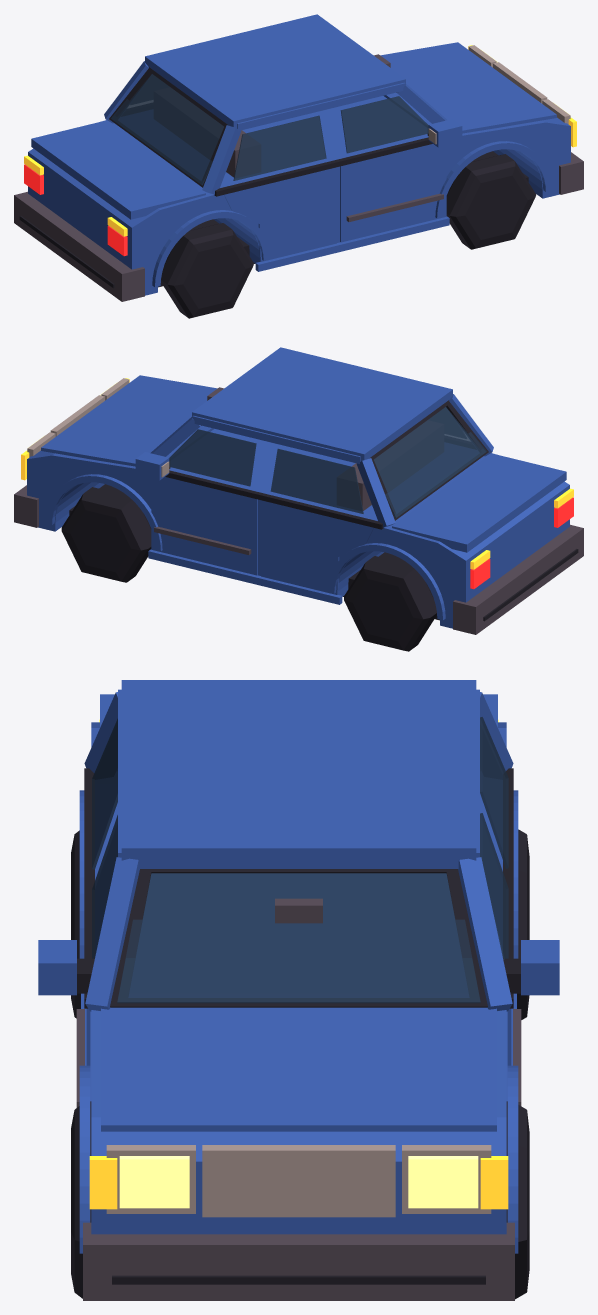
Rendered from veh.sedan-blue.lod2.glb.
3 views of the same model, one above another, from view 1: azimuth 30°, elevation 25°; view 2: azimuth 150°, elevation 25°; view 3: azimuth 270°, elevation 25° (orthographic). The views are drawn at different scales.
Visible parts, largest first — view 1: body, object 8, wheelRL, wheelFL, lightsBrake; view 2: body, object 8, wheelRR, wheelFR, lightsBrake; view 3: body, object 8, lightsFront, wheelFR, wheelFL, wheelRR, wheelRL.
Part boxes in pixels (x1,y1,x2,y2): body: (14, 14, 583, 301); object 8: (224, 96, 462, 261); wheelRL: (161, 223, 253, 318); wheelFL: (446, 154, 536, 249); lightsBrake: (24, 155, 127, 256); body: (14, 347, 583, 634); object 8: (135, 429, 373, 594); wheelRR: (344, 556, 436, 651); wheelFR: (61, 487, 151, 582); lightsBrake: (470, 488, 573, 589); body: (79, 680, 518, 1300); object 8: (38, 717, 559, 1107); lightsFront: (89, 1156, 508, 1209); wheelFR: (506, 1101, 529, 1299); wheelFL: (71, 1101, 91, 1298); wheelRR: (517, 829, 529, 1019); wheelRL: (71, 830, 80, 1018).
Size of the model in its own units: 4.45 by 1.62 by 2.16.
